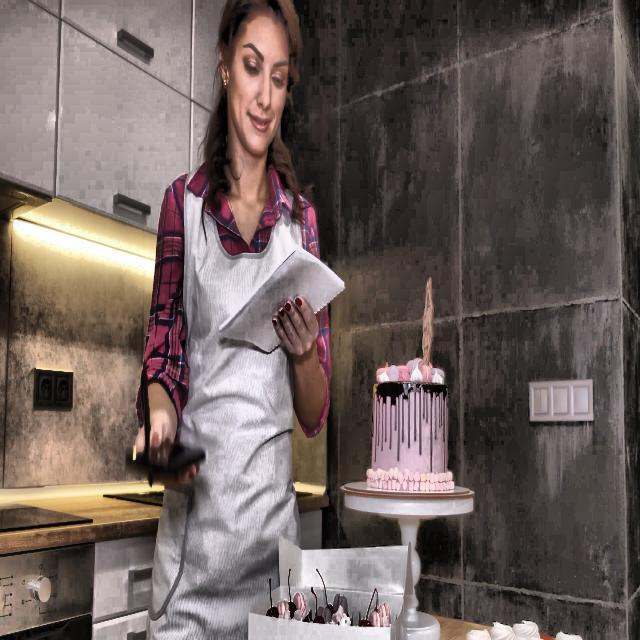Phone: (126, 441, 207, 478)
